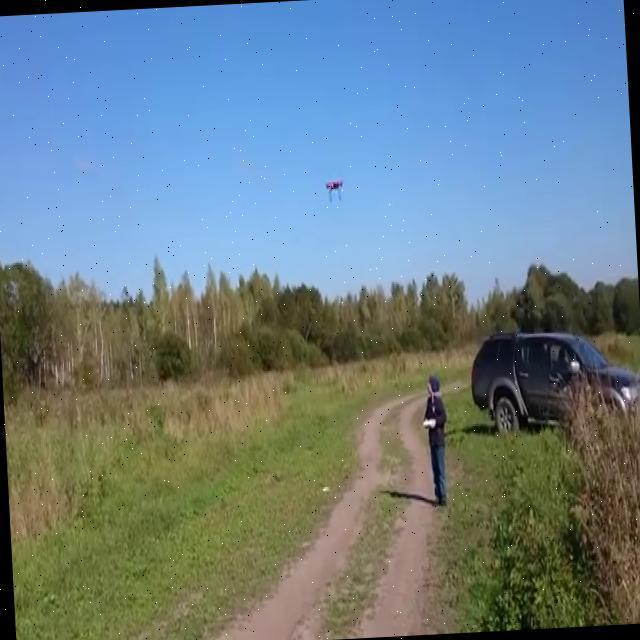Drons: (322, 173, 346, 203)
